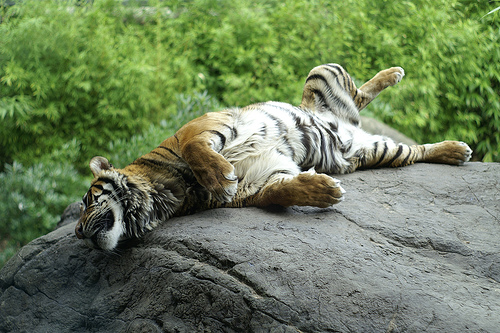Tigre: (64, 56, 479, 264)
